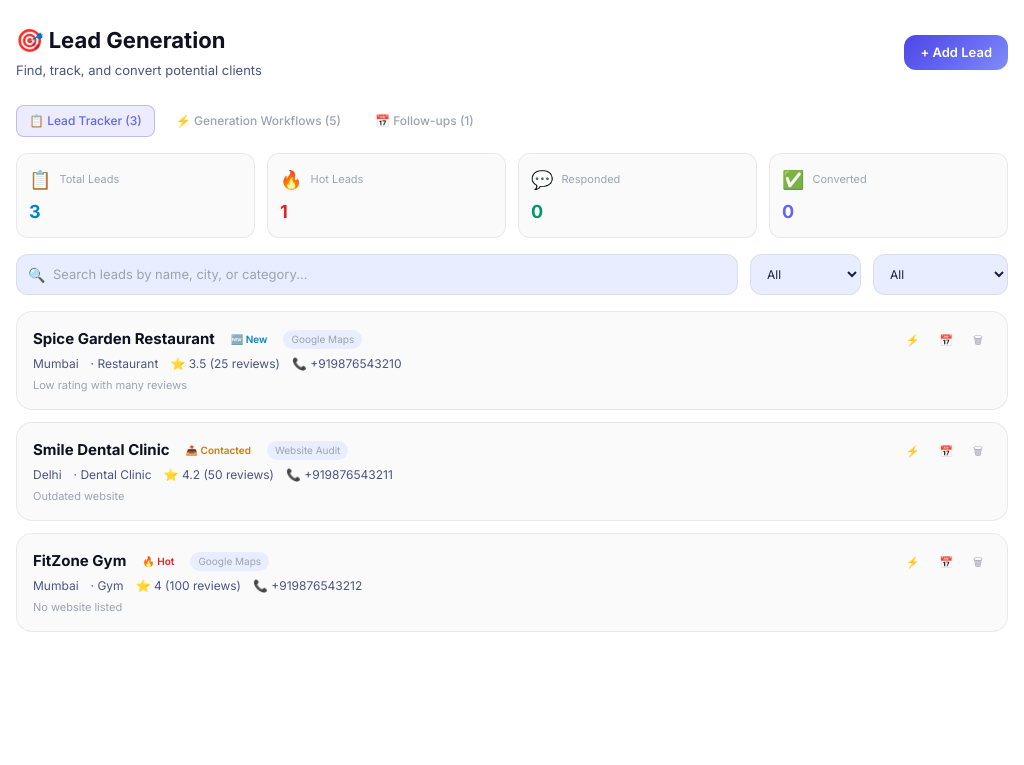
it: LeadsTab › lead tracker › shows personalised message when expanded
The width and height of the screenshot is (1024, 765).
Smile Dental has notes, expand it
Click the heading "Smile Dental Clinic" at (101,450), box [33,439,170,462]
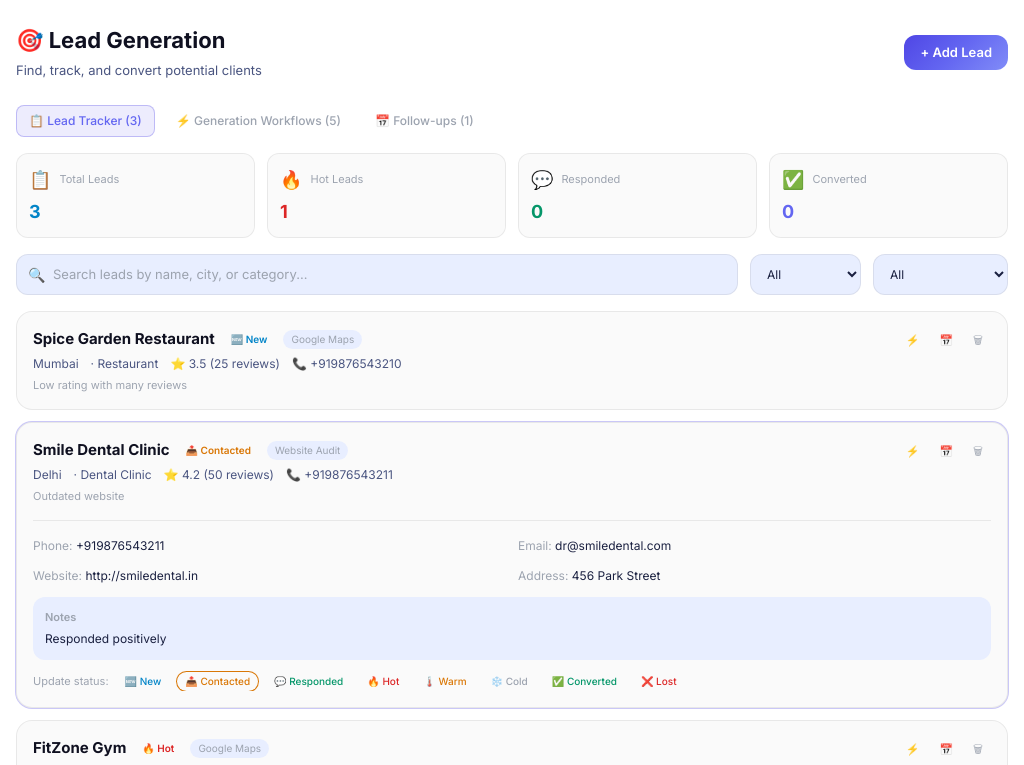
Result: the heading "Notes" is shown at [45,610,76,624]
